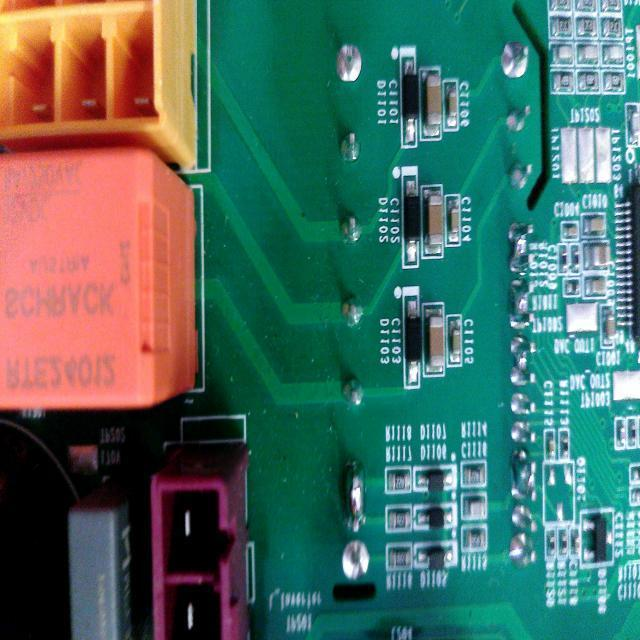Soldering shorted: (341, 456, 369, 536), (508, 442, 538, 508), (506, 274, 540, 332), (506, 216, 537, 276), (508, 332, 538, 392)
